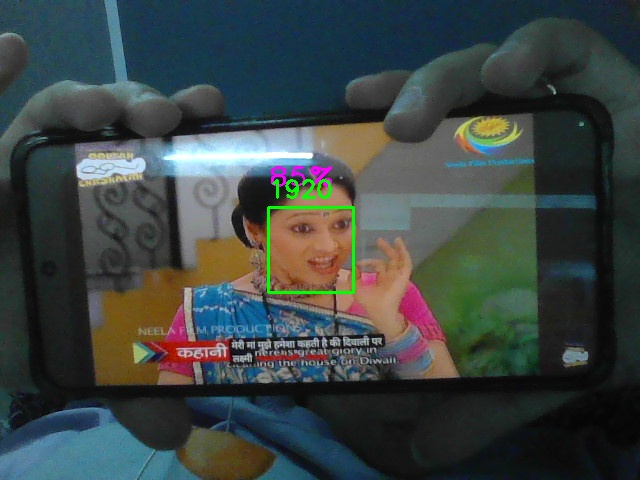fake: (268, 207, 354, 293)
